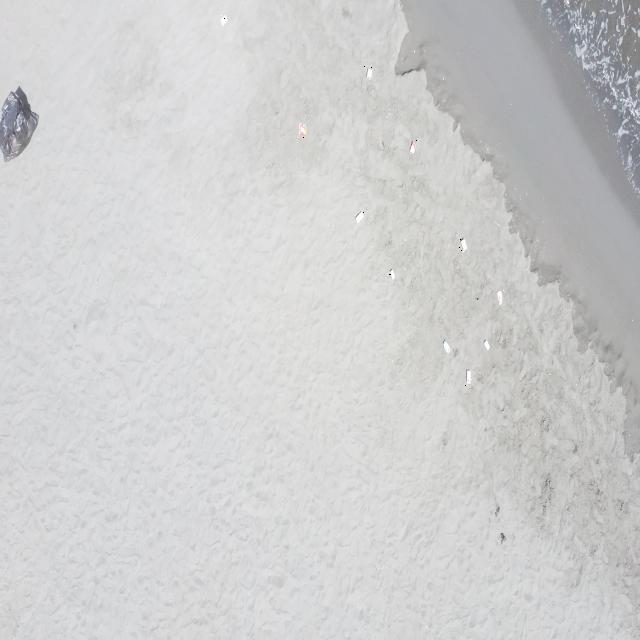Garbage: (0, 87, 37, 160), (298, 121, 306, 139), (355, 211, 364, 223), (495, 289, 502, 304), (464, 369, 471, 384), (459, 238, 467, 251), (387, 267, 395, 279), (408, 140, 416, 152), (366, 67, 372, 79), (443, 340, 449, 352), (220, 15, 226, 24), (484, 339, 488, 350)
